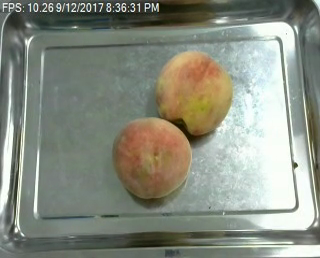Peach: (155, 49, 233, 135), (112, 116, 191, 199)
